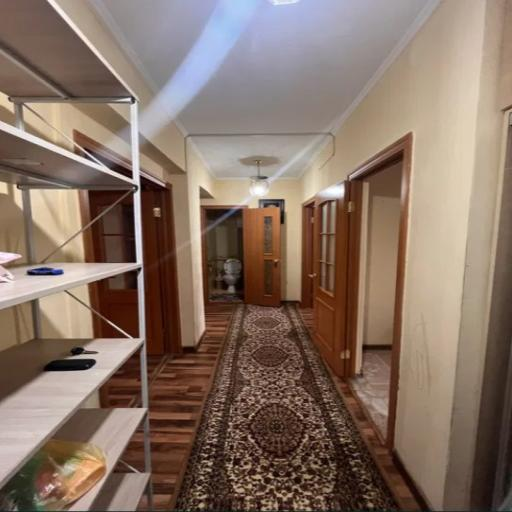car: (0, 0, 512, 512)
child: (89, 190, 166, 355), (313, 182, 351, 376), (243, 208, 281, 307)
